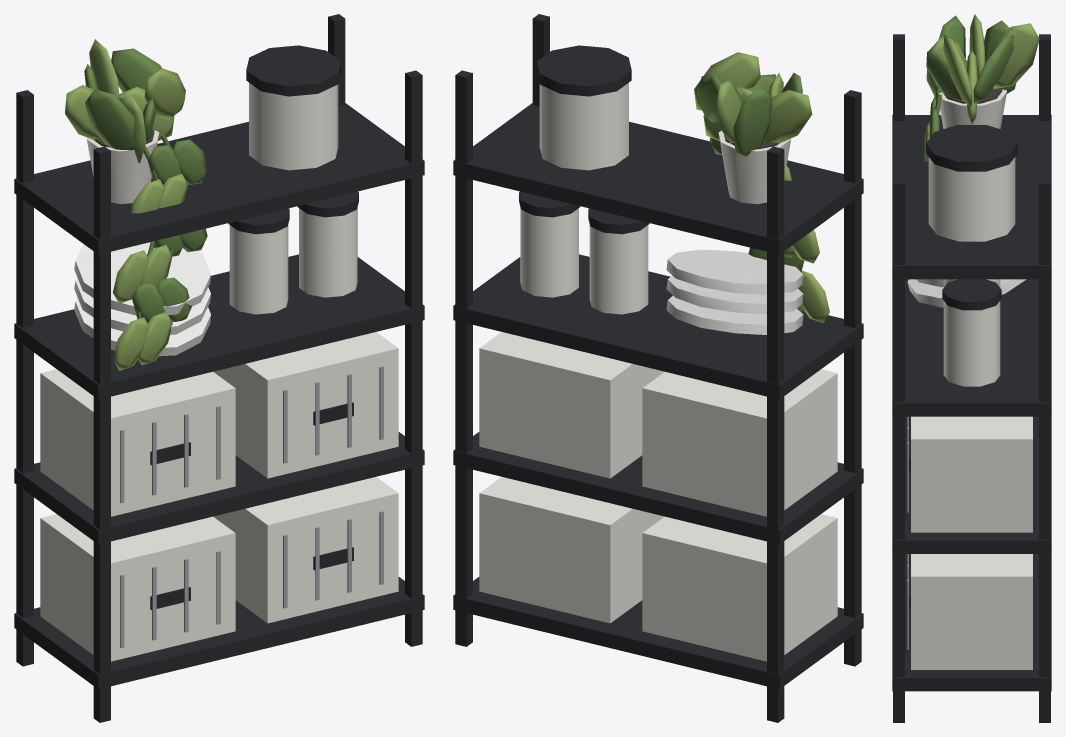
The model's file is kitchen_ref_rack.glb.
3 views of the same model, side by side, from view 1: azimuth 30°, elevation 25°; view 2: azimuth 150°, elevation 25°; view 3: azimuth 270°, elevation 25° (orthographic). The views are drawn at different scales.
Bounding box in the file's own units: 1.32 × 2.37 × 0.59.
